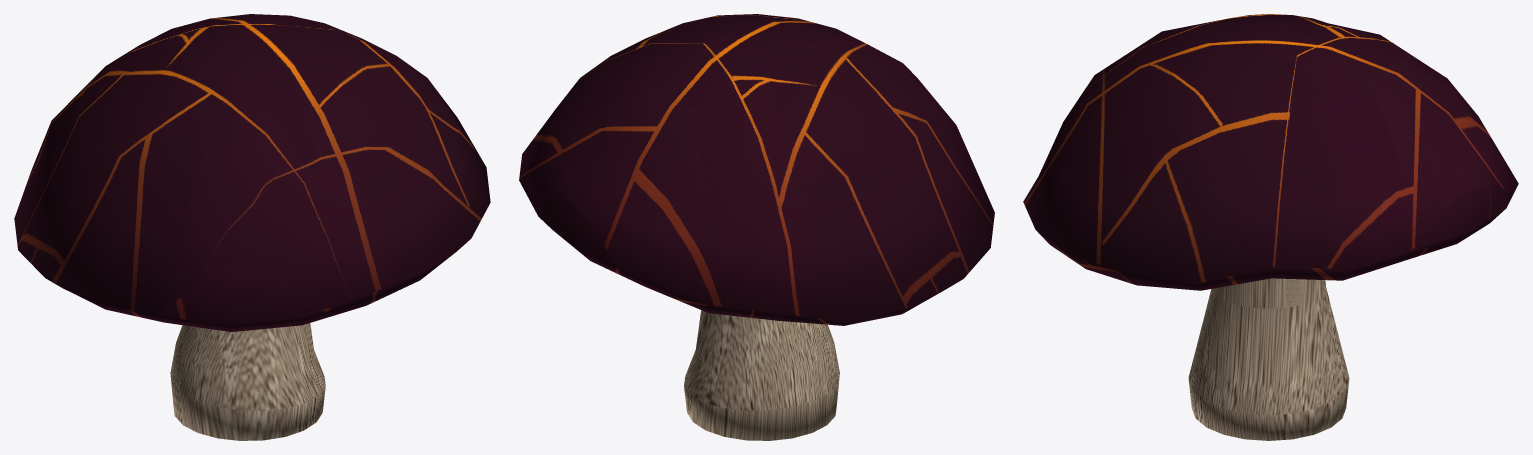
File: mushroom.FBX
3 renders of one model, left to right at view 1: azimuth 30°, elevation 25°; view 2: azimuth 150°, elevation 25°; view 3: azimuth 270°, elevation 25°, orthographic. The views are drawn at different scales.
Parts seen in each view (by area): view 1: Sphere001; view 2: Sphere001; view 3: Sphere001.
Boxes of the visible parts, x1,y1,x2,y2 form: Sphere001: [14, 14, 490, 440]; Sphere001: [519, 14, 994, 440]; Sphere001: [1023, 14, 1518, 440].
Size of the model in its own units: 123 by 105 by 125.
2 materials, 2 textured.
